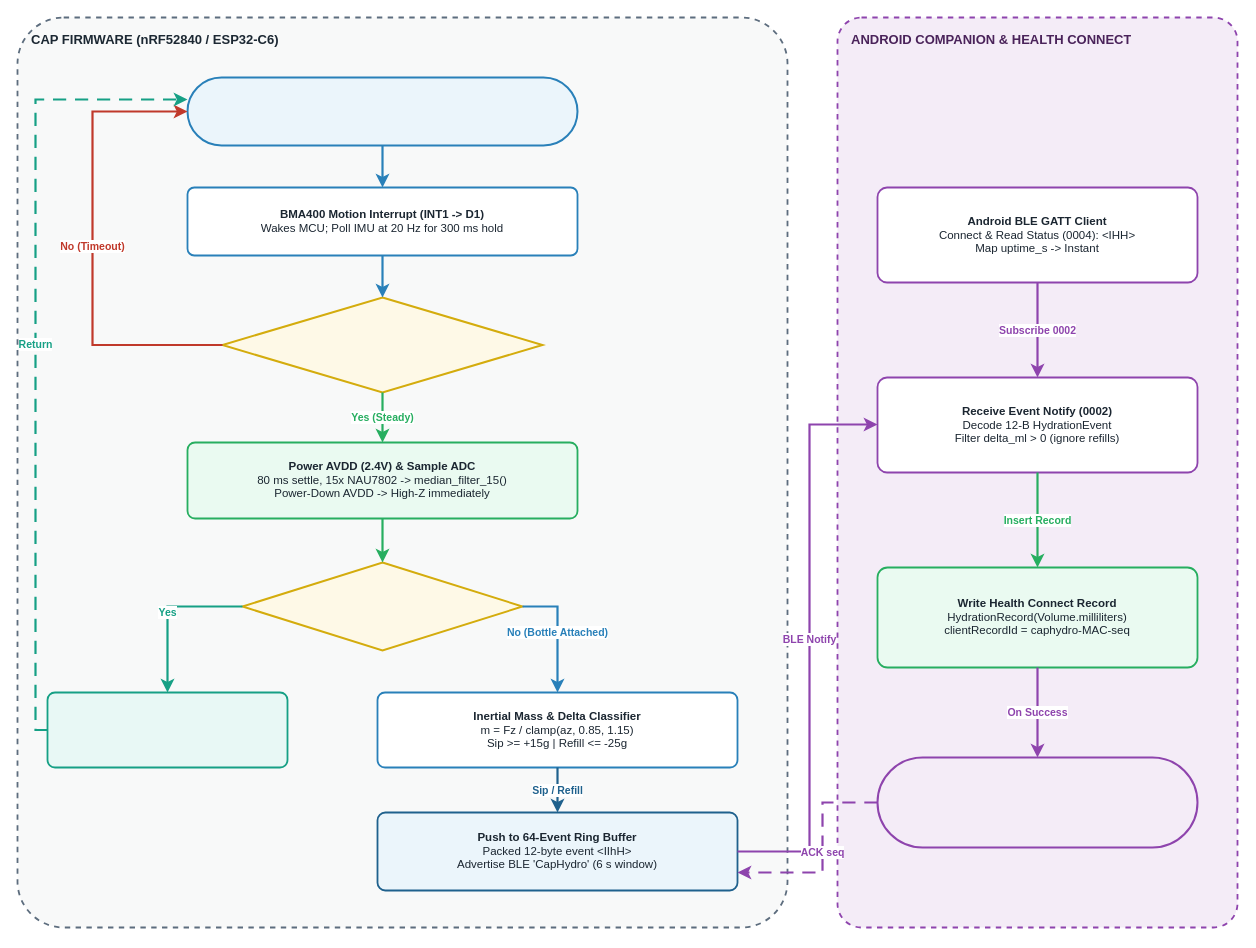
Some shapes in this 1256 by 948 pixel diagram are drawn without their labels. Here are the shapes that lost their labels. From the top down, the centre of each, then its label:
At (x=382, y=111): "System-ON Deep Sleep (~6.5 uA) AVDD = High-Z (0 uA bridge), BMA400 @ 25 Hz".
At (x=382, y=344): "Static Vertical Hold? az in [0.85g, 1.15g] & tilt < 15 deg".
At (x=382, y=606): "|raw_g| < 45 g? (Cap Unscrewed?)".
At (x=167, y=729): "Auto-Tare Zero Offset zero_offset = 0.8*old + 0.2*median Cancels thermal drift".
At (x=1037, y=802): "Send BLE ACK (0003) Write 4-byte uint32 last_acked_seq Cap clears ring up to seq".
